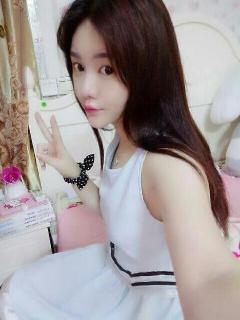vest: (0, 128, 228, 319)
